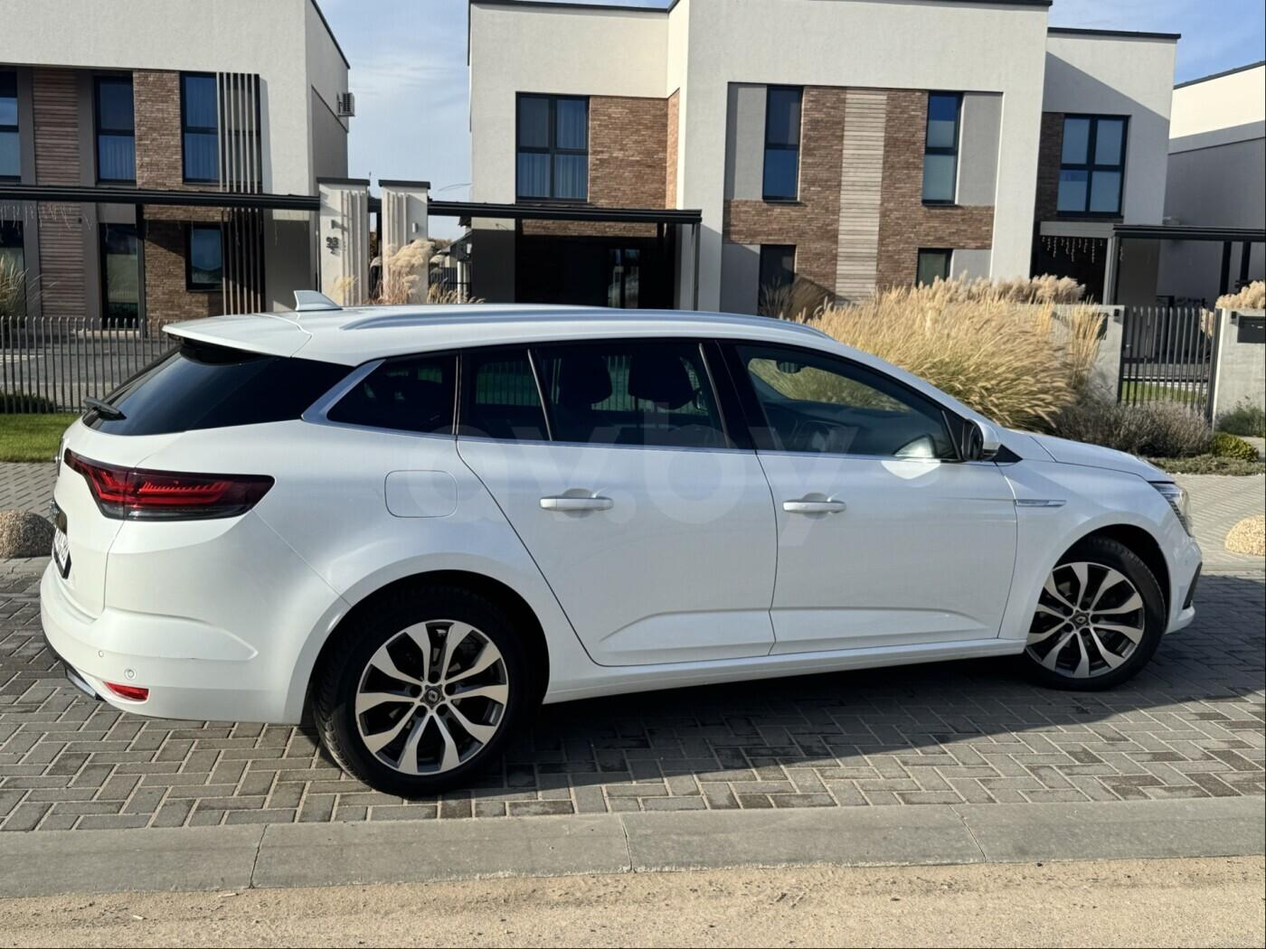Megane_2020: (31, 302, 1200, 788)
